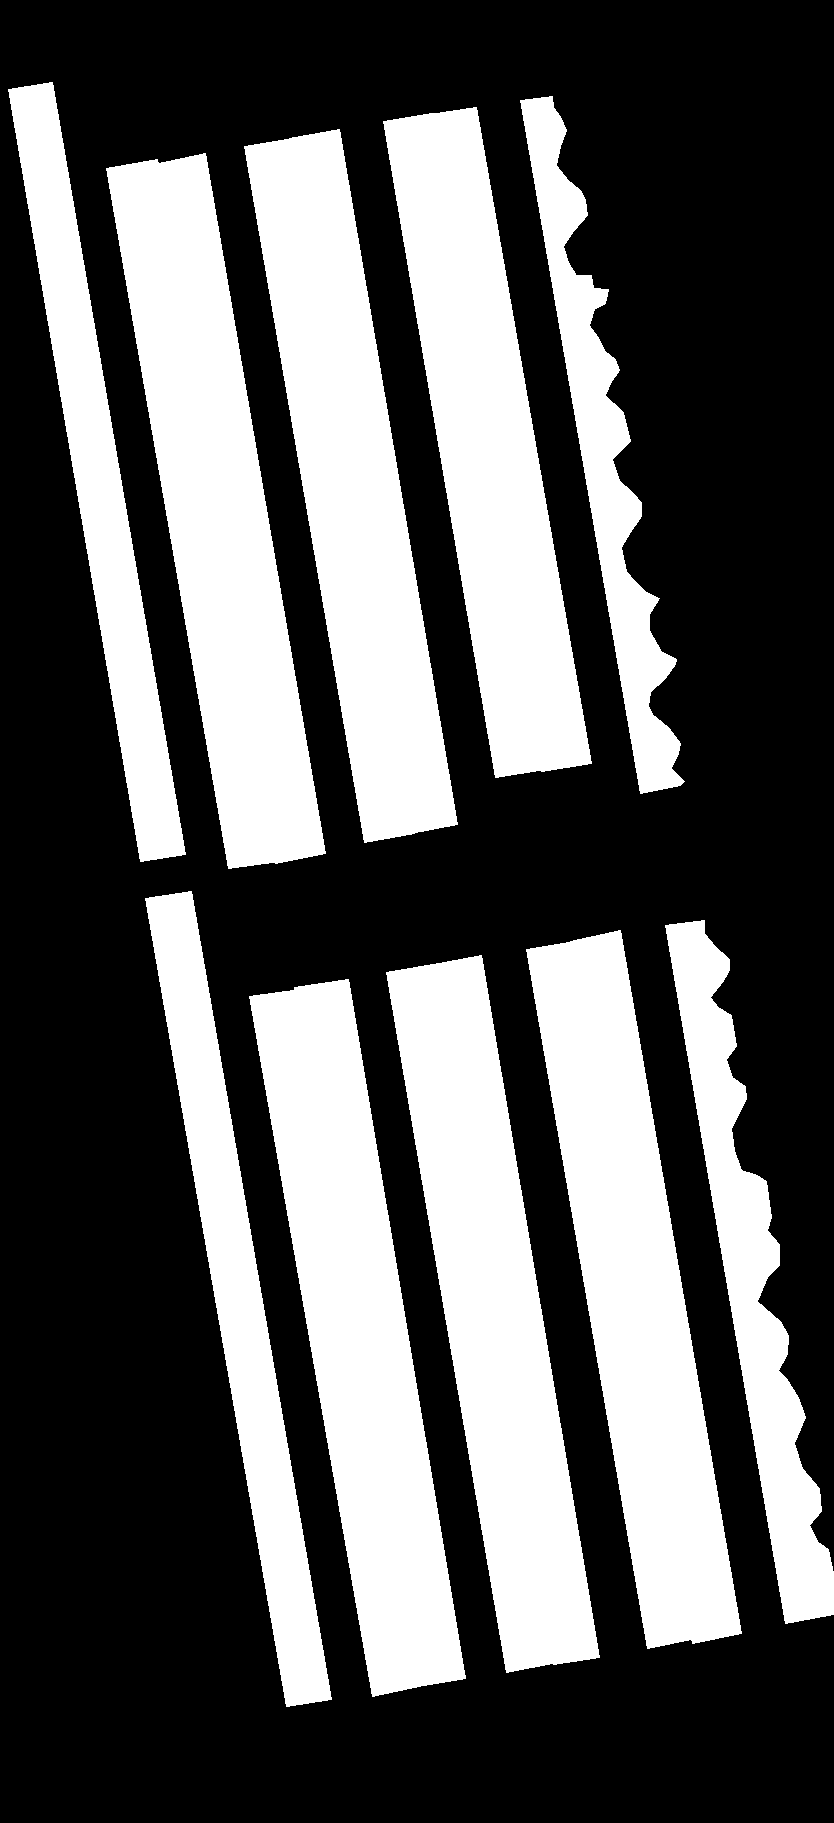parkingspot: (145, 891, 332, 1706), (8, 83, 185, 862), (249, 989, 423, 1696), (106, 159, 279, 868), (570, 930, 741, 1643), (154, 153, 325, 863), (386, 963, 557, 1672), (294, 979, 465, 1686), (526, 941, 696, 1647), (244, 138, 414, 842), (288, 129, 457, 832), (665, 920, 834, 1623), (433, 955, 599, 1664), (520, 96, 684, 793), (383, 113, 546, 777), (429, 107, 591, 771)
